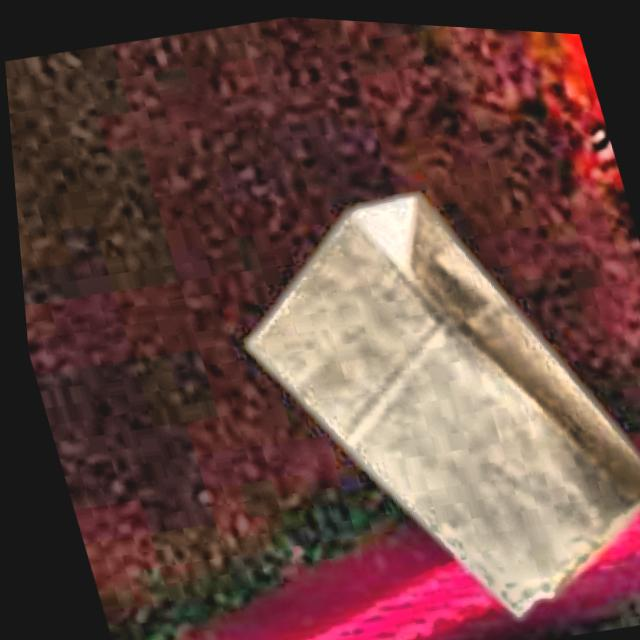Paper-bag: (199, 135, 640, 640)
